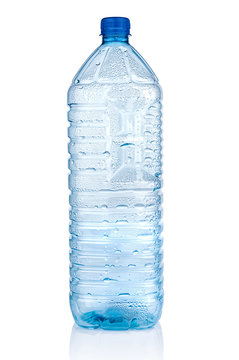plastic_bottle: (65, 14, 167, 332)
